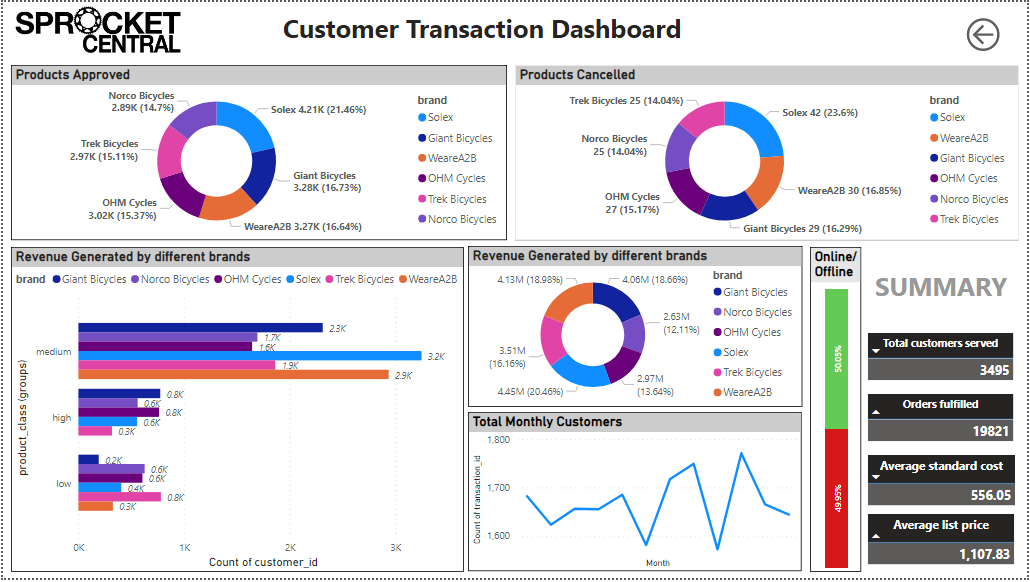

This screenshot's page, from the dashboard's own definition file:
{"tool":"powerbi","page":{"name":"Transaction db","canvas":[1280,720],"ordinal":0},"visuals":[{"type":"donutChart","title":"Products Approved","fields":{"Category":["Transactions.brand"],"Y":["CountNonNull(Transactions.order_status)"]},"box":[10,78.6,620,218.6],"z":0},{"type":"image","box":[0,0,242.2,83.3],"z":1000},{"type":"textbox","box":[248.9,5.6,708.9,73.3],"z":2000},{"type":"lineChart","title":"Total Monthly Customers","fields":{"Y":["CountNonNull(Transactions.transaction_id)"],"Category":["Transactions.transaction_date.Variation.Date Hierarchy.Month"]},"box":[581.4,512.9,417.1,198.6],"z":3000},{"type":"donutChart","title":"Products Cancelled","fields":{"Category":["Transactions.brand"],"Y":["CountNonNull(Transactions.order_status)"]},"box":[640,78.6,630,218.6],"z":4000},{"type":"actionButton","box":[1198.8,11.2,52.5,58.8],"z":5000},{"type":"donutChart","title":"Revenue Generated by different brands","fields":{"Y":["Sum(Transactions.list_price)"],"Series":["Transactions.brand"]},"box":[581,305,418,201],"z":6000},{"type":"tableEx","fields":{"Values":["Transactions.customer_id"]},"box":[1075,409.3,195,76],"z":7000},{"type":"tableEx","fields":{"Values":["Transactions.order_status"]},"box":[1075,485.3,195,76],"z":8000},{"type":"tableEx","fields":{"Values":["Avg(Transactions.standard_cost)"]},"box":[1075,561.3,195,74],"z":9000},{"type":"tableEx","fields":{"Values":["Avg(Transactions.list_price)"]},"box":[1075,635.3,195,76],"z":10000},{"type":"clusteredBarChart","title":"Revenue Generated by different brands","fields":{"Y":["CountNonNull(Transactions.customer_id)"],"Category":["Transactions.product_class (groups)","Transactions.brand"],"Series":["Transactions.brand"]},"box":[10,305.7,565.7,405.7],"z":11000},{"type":"hundredPercentStackedColumnChart","title":"Online/Offline ","fields":{"Series":["Transactions.online_order"],"Y":["CountNonNull(Transactions.online_order)"]},"box":[1008.6,305.7,64.3,405.7],"z":12000},{"type":"textbox","box":[1078.6,327.1,187.1,64.3],"z":13000}]}

Visuals, with their boxes in screenshot pixels (x1, y1, x2, y2), scaled from the page's 1280x720 canvas onto the 1030x582 screenshot:
"Products Approved" donutChart: 8,64,507,240
image: 0,0,195,67
textbox: 200,5,771,64
"Total Monthly Customers" lineChart: 468,415,803,575
"Products Cancelled" donutChart: 515,64,1022,240
actionButton: 965,9,1007,57
"Revenue Generated by different brands" donutChart: 468,247,804,409
tableEx - Transactions.customer_id: 865,331,1022,392
tableEx - Transactions.order_status: 865,392,1022,454
tableEx - Avg(Transactions.standard_cost): 865,454,1022,514
tableEx - Avg(Transactions.list_price): 865,514,1022,575
"Revenue Generated by different brands" clusteredBarChart: 8,247,463,575
"Online/Offline " hundredPercentStackedColumnChart: 812,247,863,575
textbox: 868,264,1018,316
